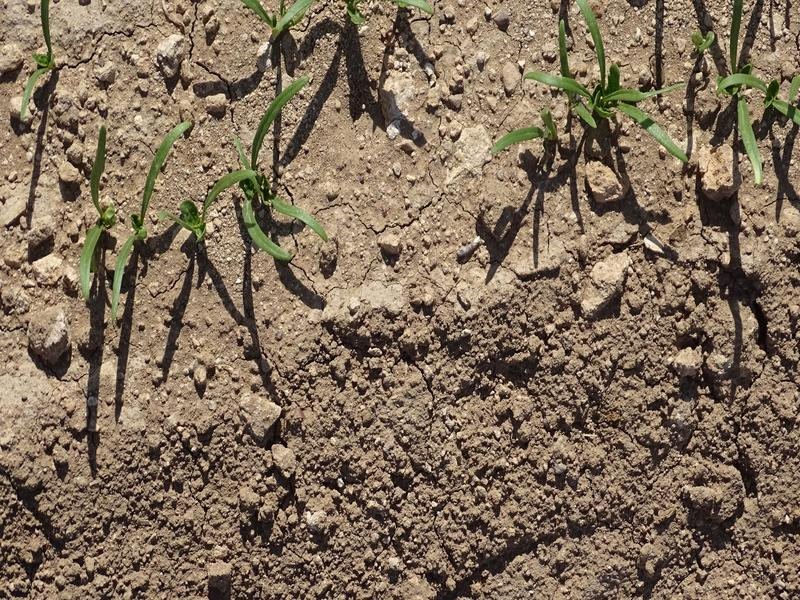Espinaca: (74, 73, 315, 310), (502, 4, 700, 175), (716, 54, 800, 186), (245, 1, 438, 41), (20, 6, 57, 109)
